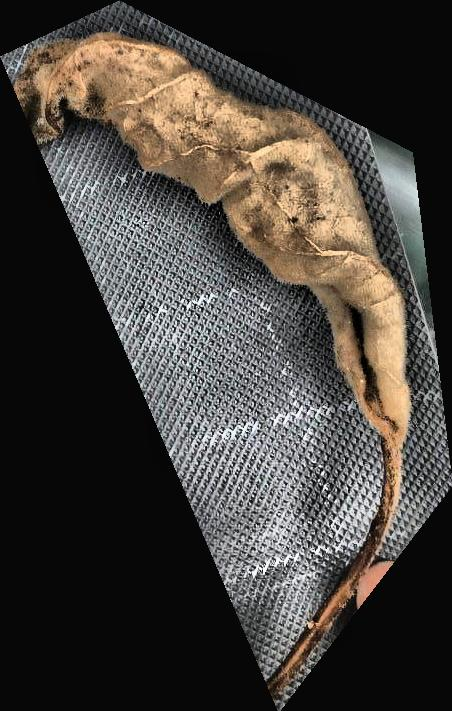Critical Stress: (0, 0, 452, 711)
